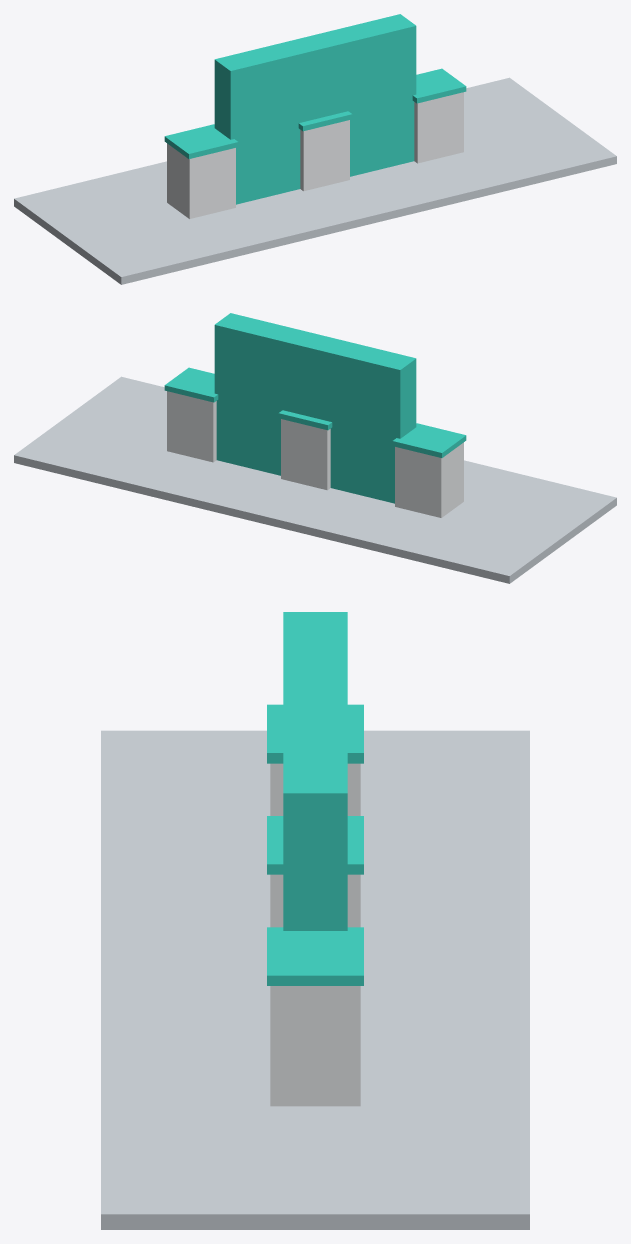
3 views of the same model, one above another, from view 1: azimuth 30°, elevation 25°; view 2: azimuth 150°, elevation 25°; view 3: azimuth 270°, elevation 25° (orthographic). The views are drawn at different scales.
Visible parts, largest first — view 1: Exhibition Booth Concept; view 2: Exhibition Booth Concept; view 3: Exhibition Booth Concept.
Part boxes in pixels (x1=…): Exhibition Booth Concept: x1=14, y1=14, x2=616, y2=284; Exhibition Booth Concept: x1=14, y1=313, x2=616, y2=583; Exhibition Booth Concept: x1=101, y1=612, x2=529, y2=1229.
Bounding box in the file's own units: 8 × 2.2 × 3.
